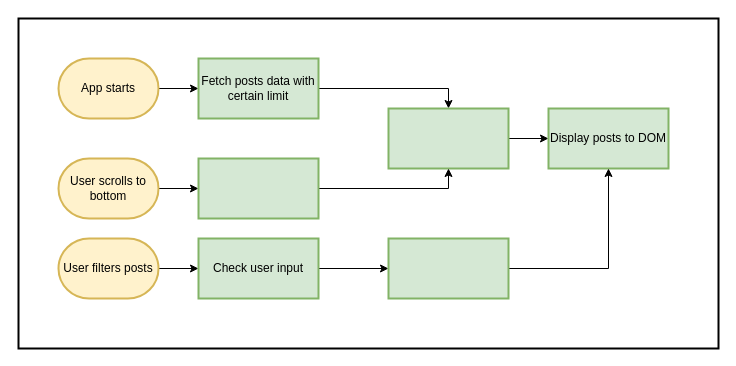
Image size: 736x366. Some labels were removed from this diagram. Here are the shapes that lost their labels. From the top down, the centre of each, then its label:
the point at 448,138: Push data to object array
the point at 258,188: Fetch posts data in the next page
the point at 448,268: Filter post that contains input
